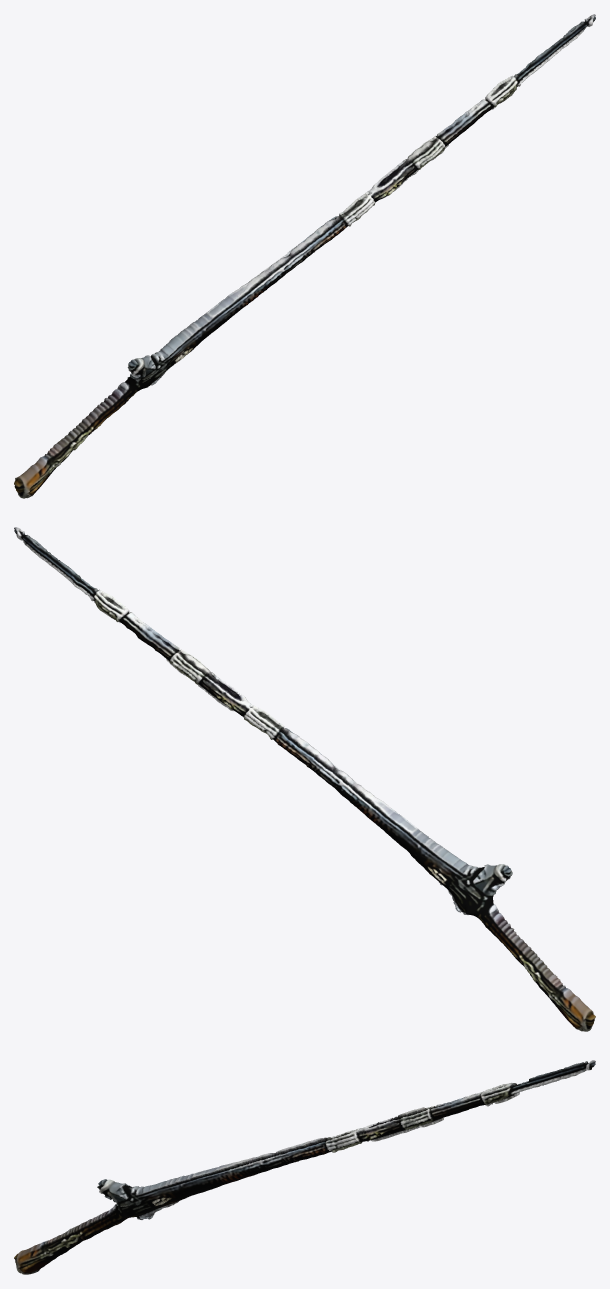
Rendered from kfl-2210.glb.
The picture shows the model from 3 angles, top to bottom: view 1: azimuth 30°, elevation 25°; view 2: azimuth 150°, elevation 25°; view 3: azimuth 330°, elevation 25°; orthographic projection. The views are drawn at different scales.
Parts seen in each view (by area): view 1: kfl-2210; view 2: kfl-2210; view 3: kfl-2210.
Part boxes in pixels (box(x1,y1,x2,y2)): kfl-2210: box(14, 14, 595, 498); kfl-2210: box(14, 527, 595, 1031); kfl-2210: box(14, 1060, 595, 1274).
Size of the model in its own units: 0.9871 by 0.5757 by 0.077.
1 material, 1 textured.
